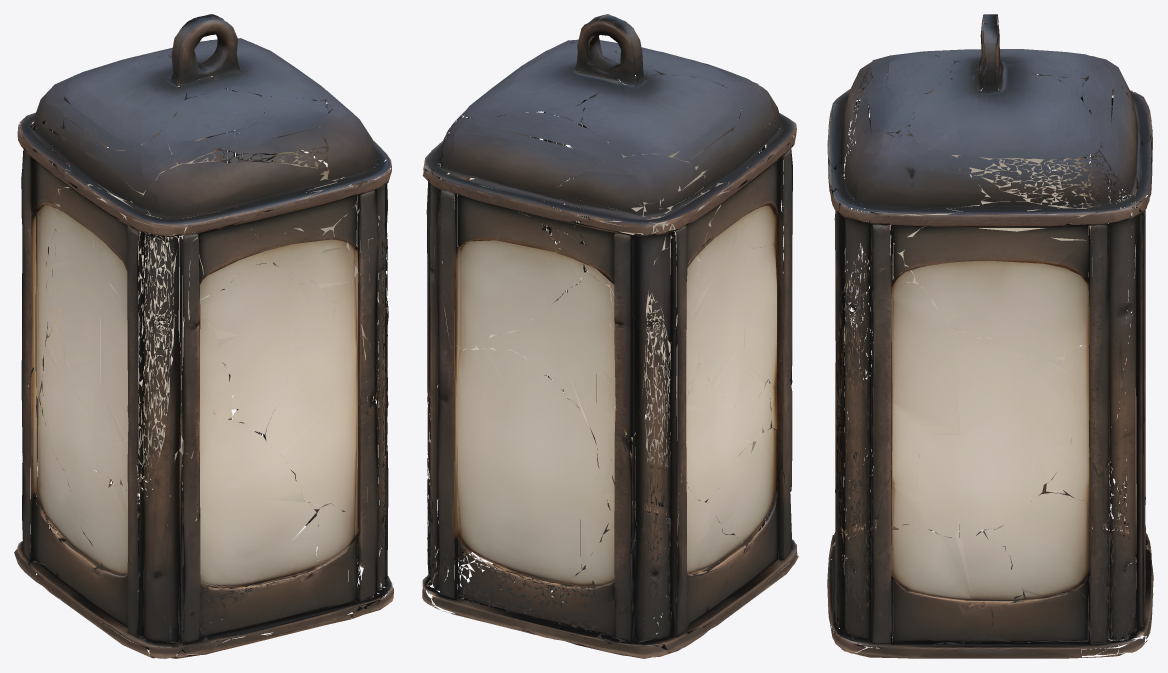
Rendered from lantern-of-keeping-slim.glb.
The picture shows the model from 3 angles, left to right: view 1: azimuth 30°, elevation 25°; view 2: azimuth 150°, elevation 25°; view 3: azimuth 270°, elevation 25°; orthographic projection. The views are drawn at different scales.
Parts seen in each view (by area): view 1: node_0; view 2: node_0; view 3: node_0.
Boxes of the visible parts, x1,y1,x2,y2 form: node_0: (14, 14, 393, 658); node_0: (422, 14, 798, 658); node_0: (827, 14, 1153, 658).
Size of the model in its own units: 0.5034 by 1.02 by 0.5224.
1 material, 1 textured.
